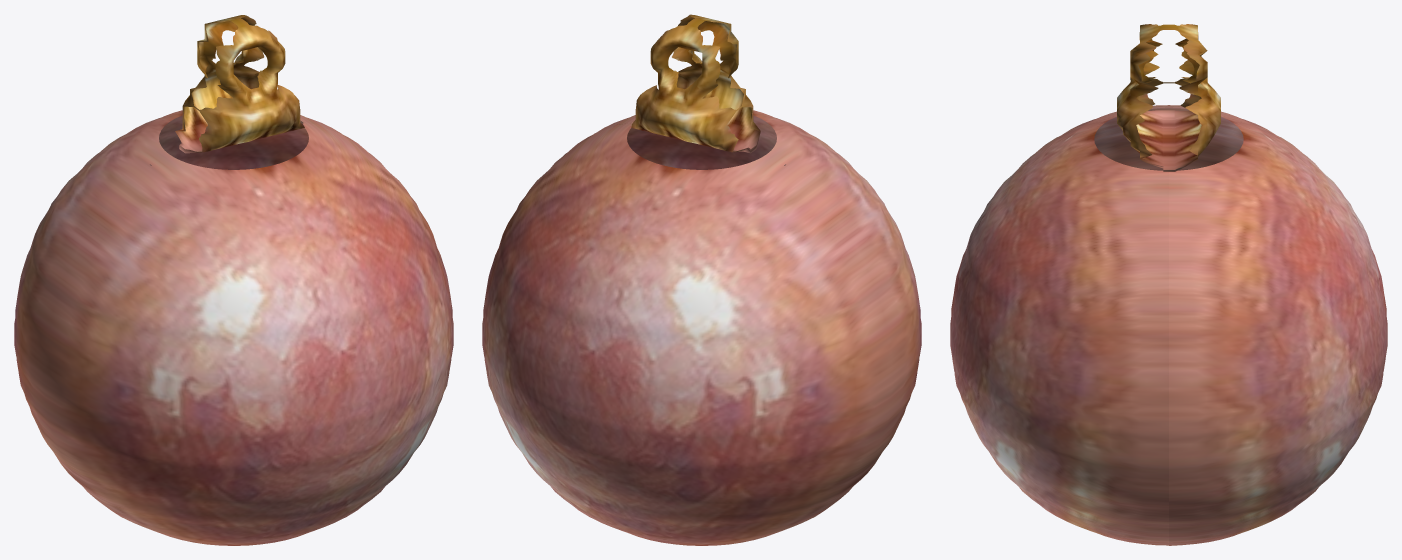
File: Item_rose.glb
The picture shows the model from 3 angles, left to right: view 1: azimuth 30°, elevation 25°; view 2: azimuth 150°, elevation 25°; view 3: azimuth 270°, elevation 25°; orthographic projection.
Visible parts, largest first — view 1: Lacquered glass.005, Item_rose carving; view 2: Lacquered glass.005, Item_rose carving; view 3: Lacquered glass.005, Item_rose carving.
Boxes of the visible parts, left/top/right/bottom form: Lacquered glass.005: left=14, top=110, right=453, bottom=545; Item_rose carving: left=175, top=15, right=304, bottom=153; Lacquered glass.005: left=482, top=110, right=921, bottom=545; Item_rose carving: left=630, top=14, right=760, bottom=153; Lacquered glass.005: left=950, top=105, right=1387, bottom=545; Item_rose carving: left=1117, top=24, right=1220, bottom=171.
Bounding box in the file's own units: 0.2268 × 0.2852 × 0.2268.
Materials: 1 (1 with a texture image).
